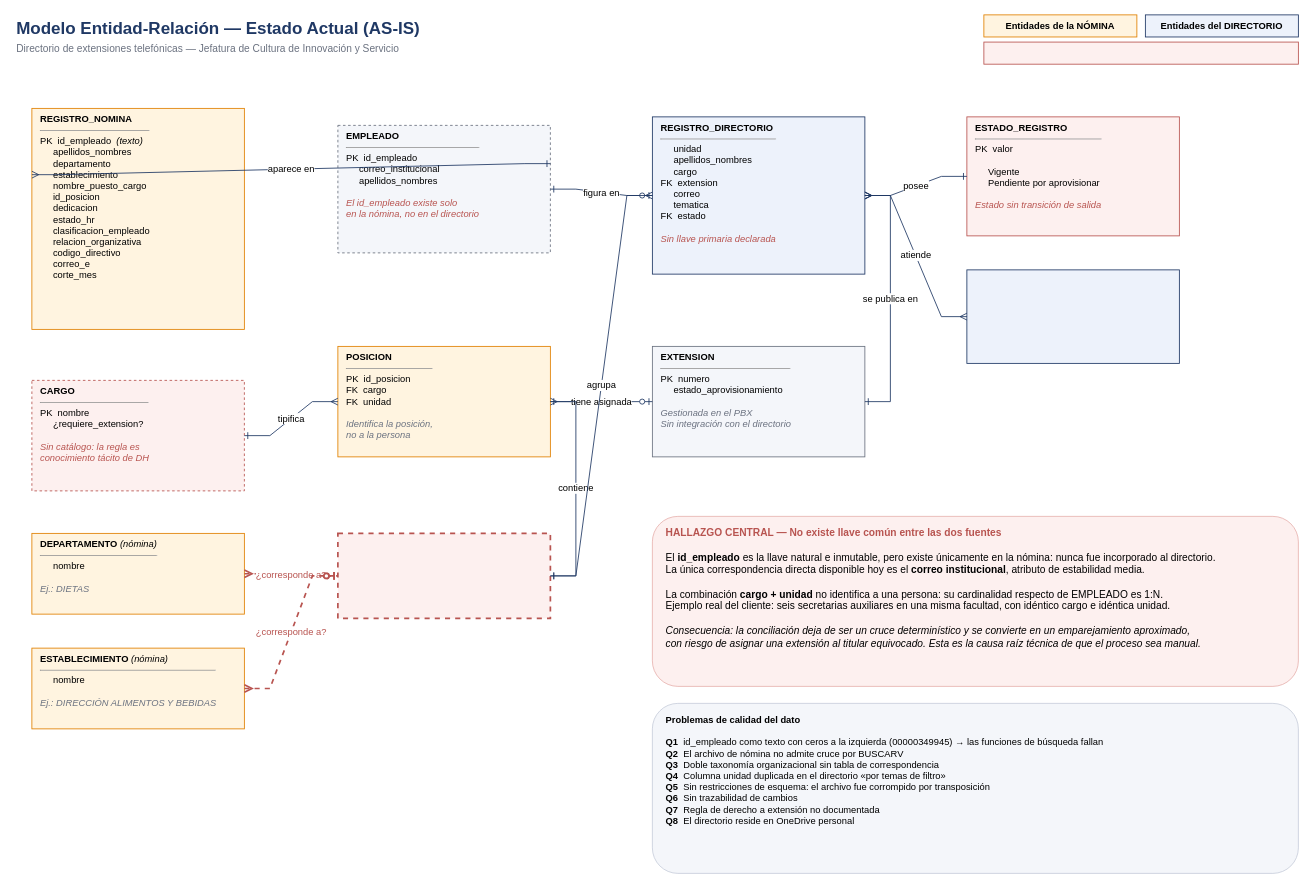
The diagram is 1313 pixels wide and 888 high, and some of its shapes have lost their labels. Each missing label, with the box of its shape:
Sin correspondencia definida: (983, 41, 1298, 64)
TEMATICA descripcion Texto libre no normalizado: (966, 269, 1179, 363)
UNIDAD PK nombre NO EXISTE CATÁLOGO MAESTRO: (337, 532, 551, 619)
